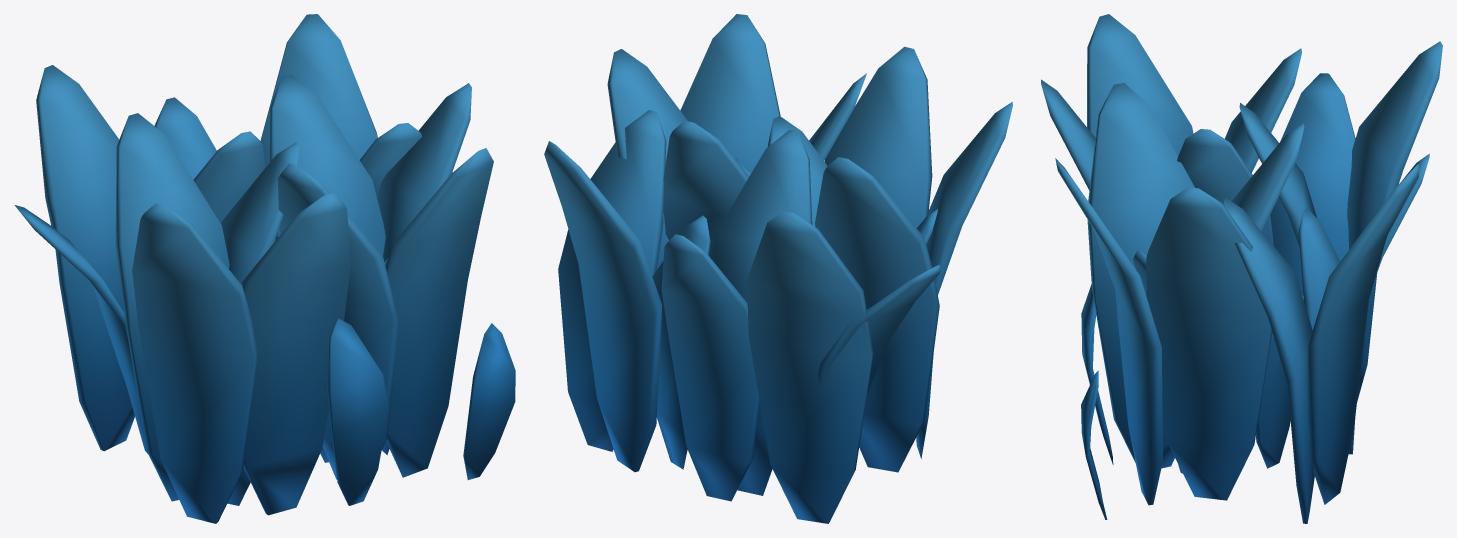
The model's file is Grass_G.fbx.
3 views of the same model, side by side, from view 1: azimuth 30°, elevation 25°; view 2: azimuth 150°, elevation 25°; view 3: azimuth 270°, elevation 25° (orthographic).
Parts seen in each view (by area): view 1: Grass_G; view 2: Grass_G; view 3: Grass_G.
Boxes of the visible parts, bbox=[...] form: Grass_G: bbox=[14, 14, 515, 523]; Grass_G: bbox=[544, 14, 1012, 523]; Grass_G: bbox=[1041, 14, 1442, 523].
Bounding box in the file's own units: 174 × 147 × 153.
